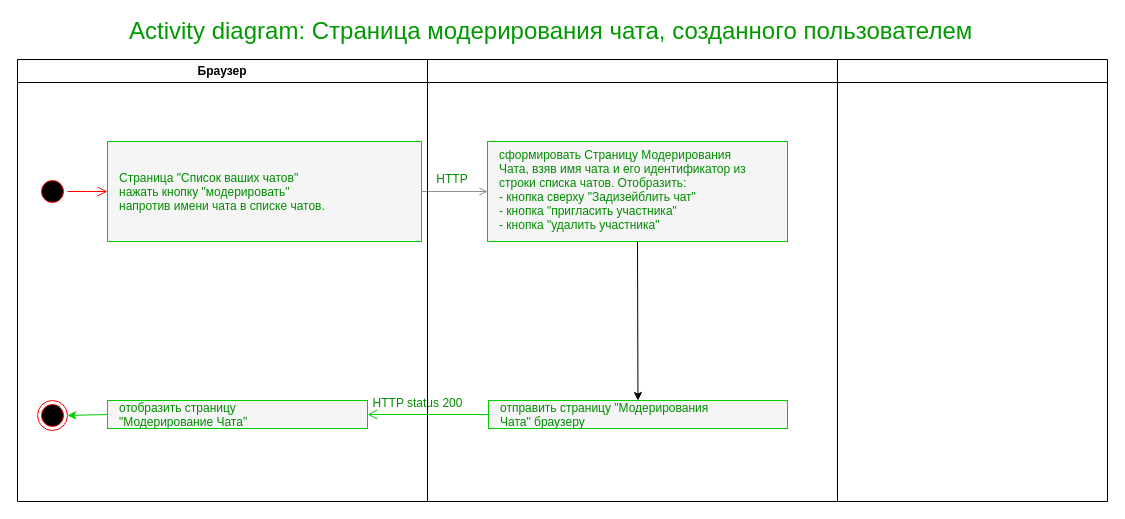
Image size: 1125x519. Some labels were removed from this diagram. Here are the shapes that lost their labels. From the top down, the centre of each, then its label:
At [632,280]: "Tomcat".
At [972,280]: "PostgreSQL".
